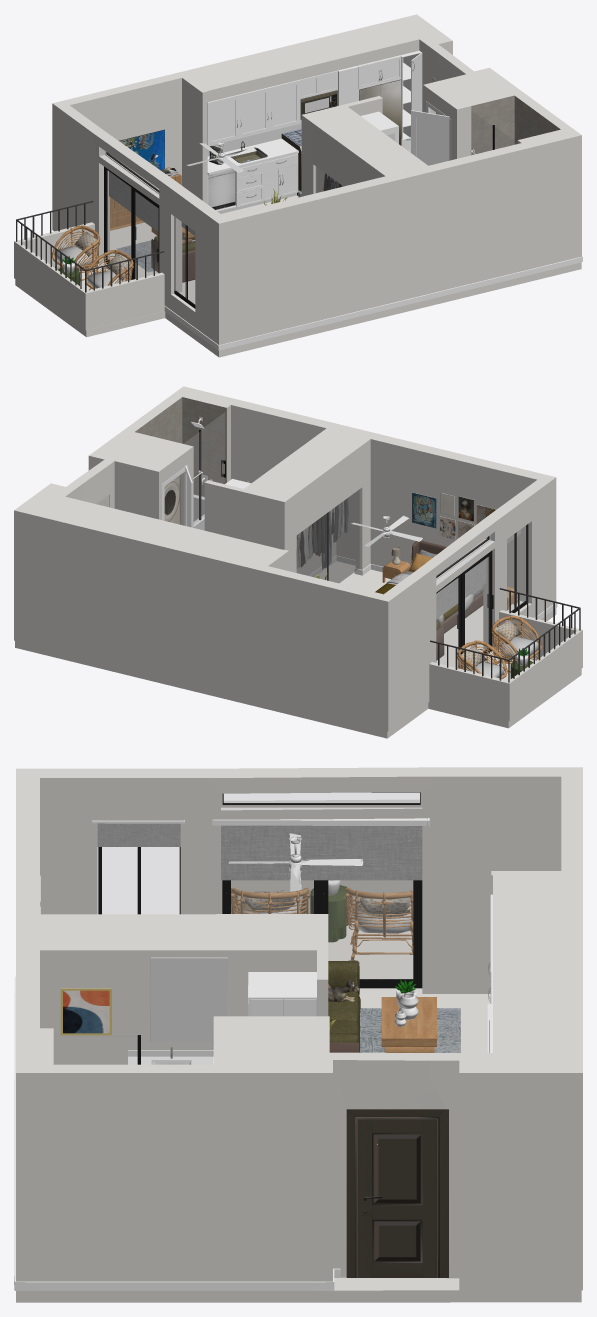
Rendered from PlanwithDog4.glb.
3 views of the same model, one above another, from view 1: azimuth 30°, elevation 25°; view 2: azimuth 150°, elevation 25°; view 3: azimuth 270°, elevation 25° (orthographic). The views are drawn at different scales.
Visible parts, largest first — view 1: Cube.194, Cube.141, Cube.162, Cube.167, Cube.188, Plane.091, Cube.163, Plane.084, Cube.164, Plane.083, Cube.152, Middle down doors.005 (+23 smaller); view 2: Cube.194, Cube.141, Cube.162, Cube.167, Cube.172, Plane.084, Cube.163, Espera Pro Walk-in.002, Cube.164, Plane.091, Plane.083, Plane.079 (+9 smaller); view 3: Cube.194, Plane.092, Cube.162, Plane.079, Plane.091, Cube.163, Cube.131, Plane.083, Espera Pro Walk-in.002, Cube.188, Plane.084, Cube.132 (+16 smaller).
Part boxes in pixels (<box>): Cube.194: <box>52,14,581,344</box>; Cube.141: <box>14,222,164,330</box>; Cube.162: <box>15,195,581,357</box>; Cube.167: <box>471,95,560,155</box>; Cube.188: <box>164,256,582,350</box>; Plane.091: <box>104,166,136,279</box>; Cube.163: <box>312,109,418,174</box>; Plane.084: <box>132,186,159,279</box>; Cube.164: <box>16,200,164,292</box>; Plane.083: <box>174,217,195,308</box>; Cube.152: <box>207,95,238,145</box>; Middle down doors.005: <box>236,154,298,207</box>; Cube.194: <box>14,386,556,731</box>; Cube.141: <box>429,610,582,721</box>; Cube.162: <box>15,561,581,738</box>; Cube.167: <box>135,397,226,496</box>; Cube.172: <box>296,489,359,583</box>; Plane.084: <box>461,550,493,668</box>; Cube.163: <box>254,430,363,497</box>; Espera Pro Walk-in.002: <box>184,413,225,524</box>; Cube.164: <box>430,588,580,682</box>; Plane.091: <box>436,574,460,668</box>; Plane.083: <box>507,524,528,612</box>; Plane.079: <box>436,558,486,618</box>; Cube.194: <box>16,767,582,1290</box>; Plane.092: <box>346,1109,448,1277</box>; Cube.162: <box>16,922,581,1302</box>; Plane.079: <box>221,825,422,880</box>; Plane.091: <box>319,880,422,988</box>; Cube.163: <box>40,919,316,942</box>; Cube.131: <box>150,957,248,1041</box>; Plane.083: <box>98,847,180,914</box>; Espera Pro Walk-in.002: <box>55,1035,212,1064</box>; Cube.188: <box>14,976,340,1290</box>; Plane.084: <box>222,880,319,913</box>; Cube.132: <box>248,972,316,1016</box>.
Bounding box in the file's own units: 1.37 × 0.3961 × 0.8883.
95 materials, 42 textured.
